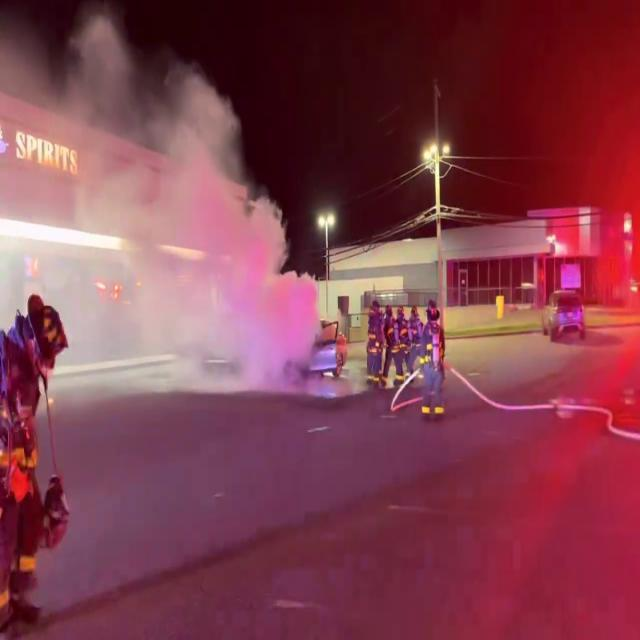Smoke: (36, 16, 304, 397)
